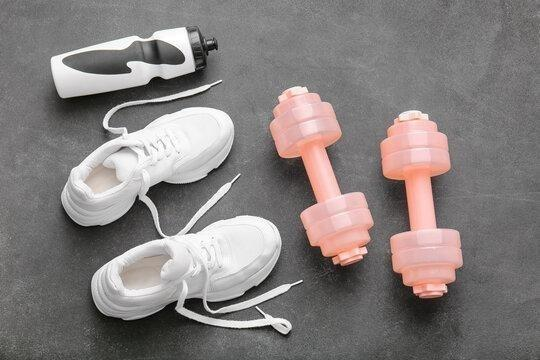gym bottle: (49, 24, 222, 101)
